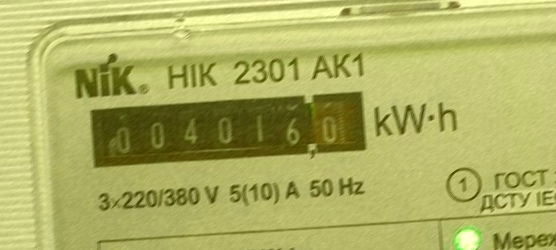0: (214, 110, 237, 146), (113, 120, 135, 154), (148, 115, 168, 150), (319, 110, 340, 143)
1: (252, 107, 269, 142)
4: (181, 111, 201, 145)
6: (283, 110, 303, 143)
screen: (84, 82, 376, 173)
